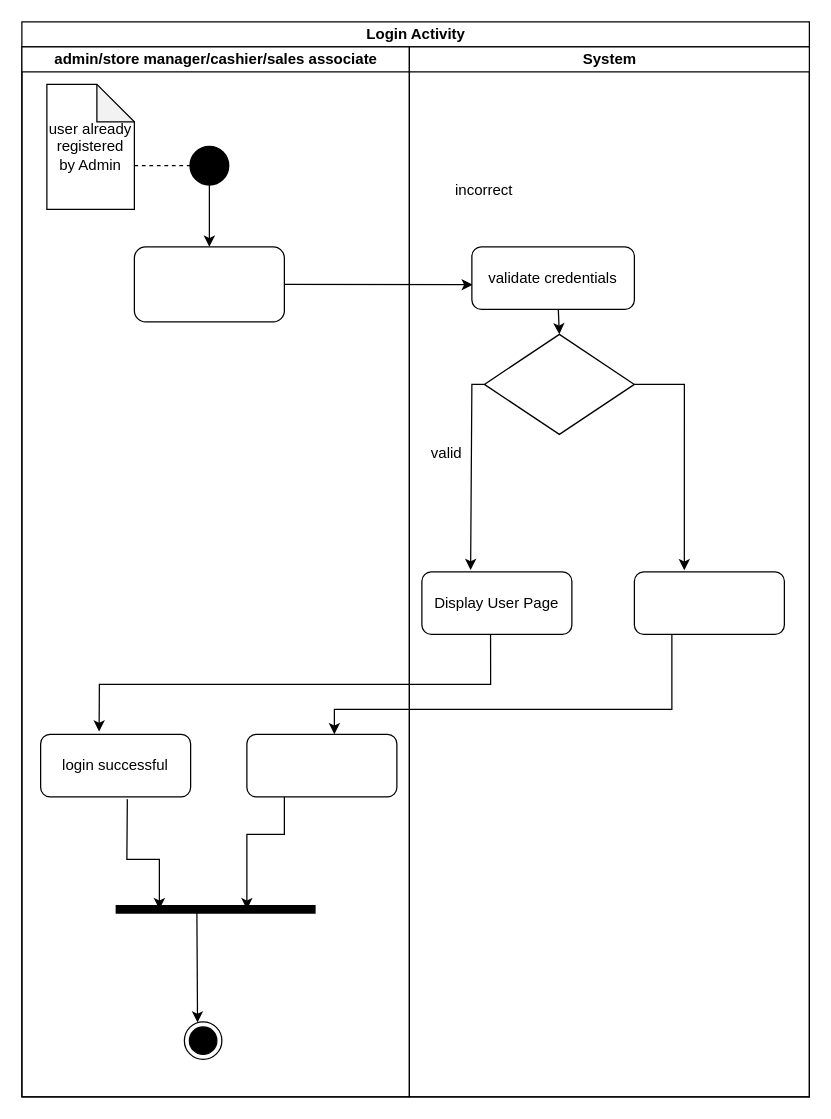
Image size: 831x1119. Some labels were removed from this diagram. The shapes that lost their labels are listed below. From the top down, each one's centre as x and y in pixels, then its label:
the point at 208,284: enter credentials
the point at 558,383: valid?
the point at 708,602: show error message
the point at 321,765: login failed
